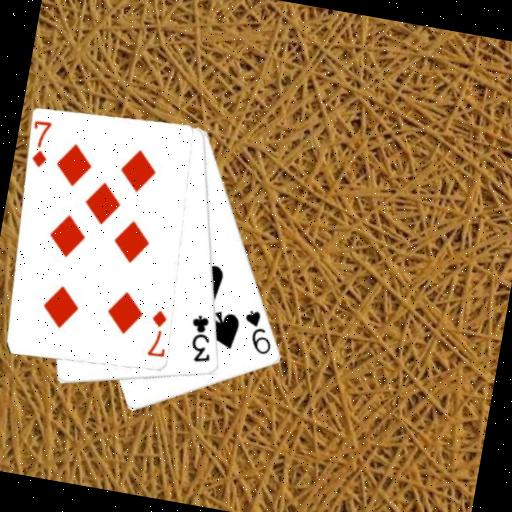3C: (182, 311, 219, 366)
7D: (142, 306, 171, 360), (27, 117, 55, 170)
9S: (236, 306, 279, 358)
